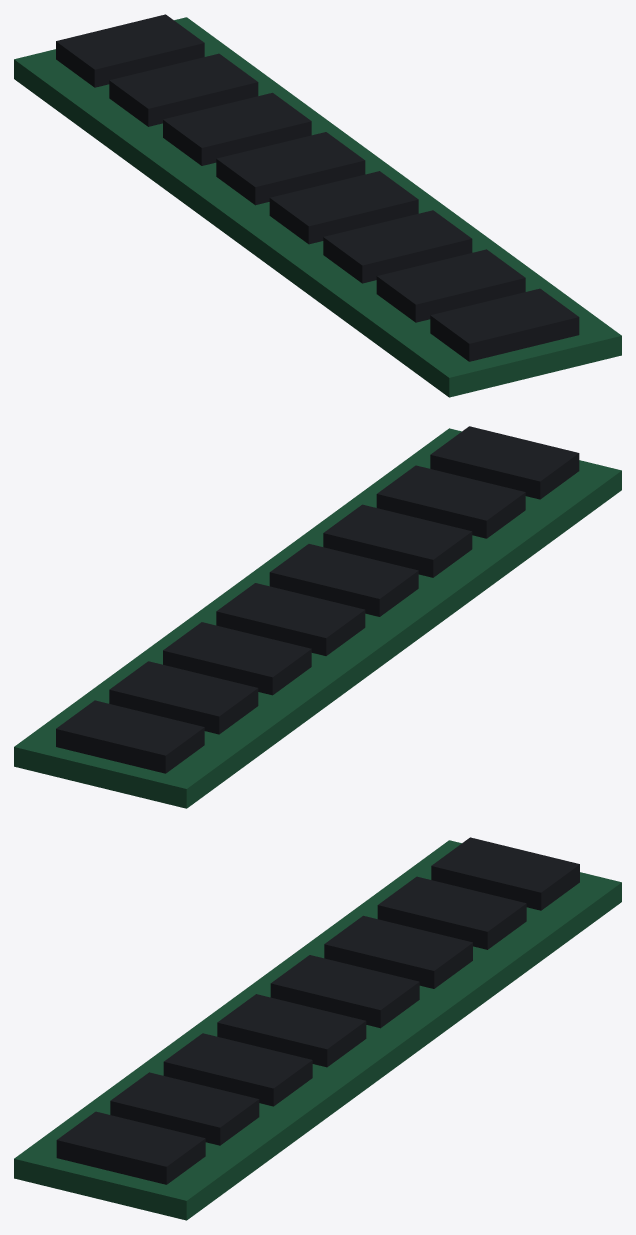
Rendered from 002_L109_U2_DDR4_A.fbx.
The picture shows the model from 3 angles, top to bottom: view 1: azimuth 30°, elevation 25°; view 2: azimuth 150°, elevation 25°; view 3: azimuth 330°, elevation 25°; orthographic projection.
Parts seen in each view (by area): view 1: L109_U2_DDR4_A_EPOXY, L109_U2_DDR4_A_GREEN; view 2: L109_U2_DDR4_A_EPOXY, L109_U2_DDR4_A_GREEN; view 3: L109_U2_DDR4_A_EPOXY, L109_U2_DDR4_A_GREEN.
Boxes of the visible parts, x1=… form: L109_U2_DDR4_A_EPOXY: x1=56, y1=14, x2=579, y2=361; L109_U2_DDR4_A_GREEN: x1=14, y1=17, x2=621, y2=397; L109_U2_DDR4_A_EPOXY: x1=56, y1=426, x2=579, y2=773; L109_U2_DDR4_A_GREEN: x1=14, y1=428, x2=621, y2=808; L109_U2_DDR4_A_EPOXY: x1=56, y1=837, x2=579, y2=1184; L109_U2_DDR4_A_GREEN: x1=14, y1=840, x2=621, y2=1220.
Size of the model in its own units: 11 by 48 by 2.3.
